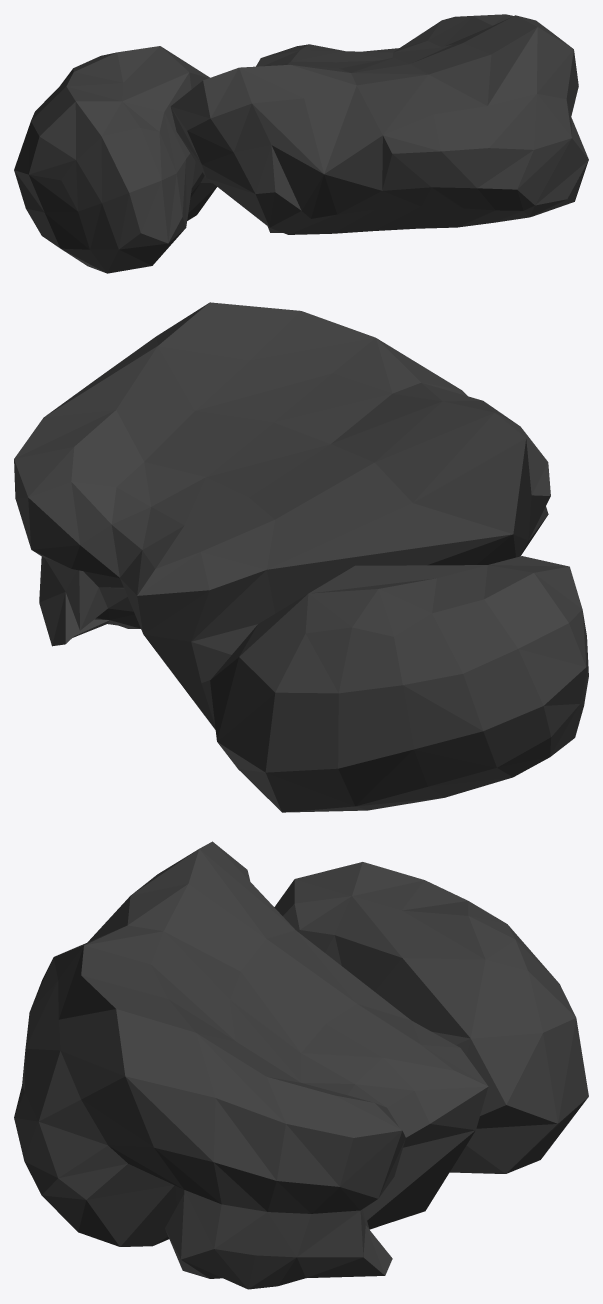
The model's file is RHL_tarsus3.glb.
3 renders of one model, top to bottom at view 1: azimuth 30°, elevation 25°; view 2: azimuth 150°, elevation 25°; view 3: azimuth 270°, elevation 25°, orthographic. The views are drawn at different scales.
Visible parts, largest first — view 1: RHL_tarsus3; view 2: RHL_tarsus3; view 3: RHL_tarsus3.
Part boxes in pixels (x1,y1,x2,y2): RHL_tarsus3: (14,14,588,273); RHL_tarsus3: (14,302,588,812); RHL_tarsus3: (14,841,588,1289).
Bounding box in the file's own units: 15.19 × 7.32 × 12.5.
1 material, 1 textured.
